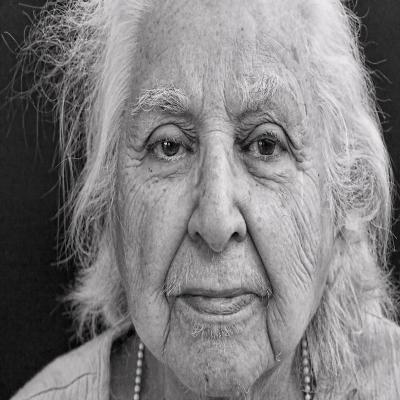netural: (123, 4, 332, 387)
